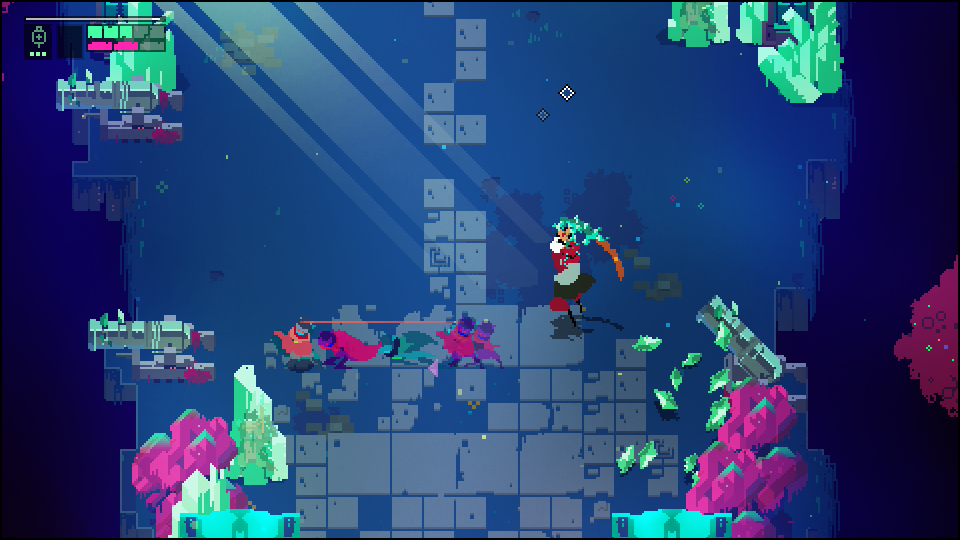hanged_man: (545, 216, 626, 335)
player: (277, 321, 317, 367)
